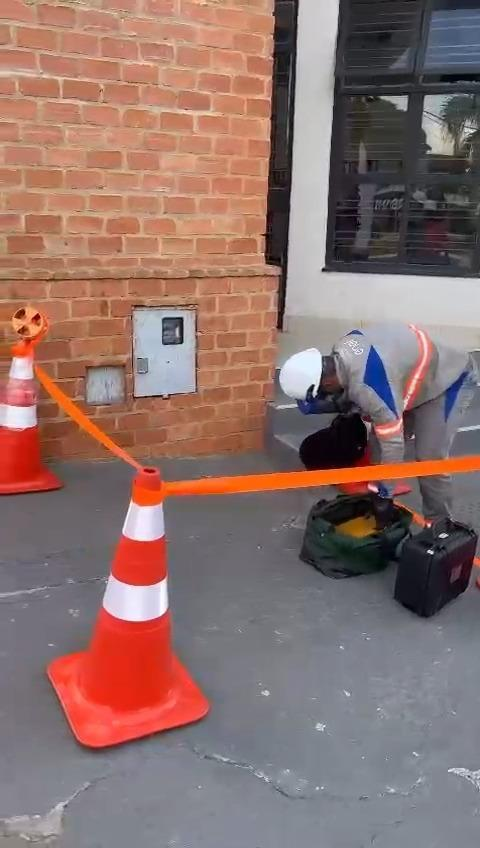Cone: (53, 456, 232, 763), (3, 332, 73, 526)
Helmet: (275, 344, 358, 416)
